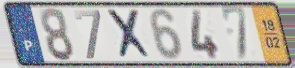4: (190, 8, 222, 61)
6: (148, 6, 185, 62)
7: (218, 5, 249, 65), (72, 9, 104, 61)
8: (39, 6, 76, 63)
X: (104, 8, 156, 61)
